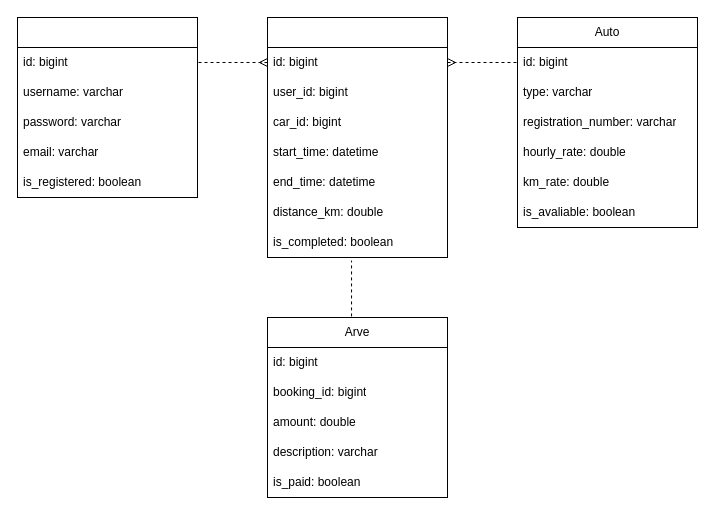
The diagram is 715 pixels wide and 515 high, and some of its shapes have lost their labels. The box of each missing label's shape, as (x1, y1, x2, y2) in pixels:
Broneering: (267, 17, 447, 137)
Kasutaja: (17, 17, 197, 137)
